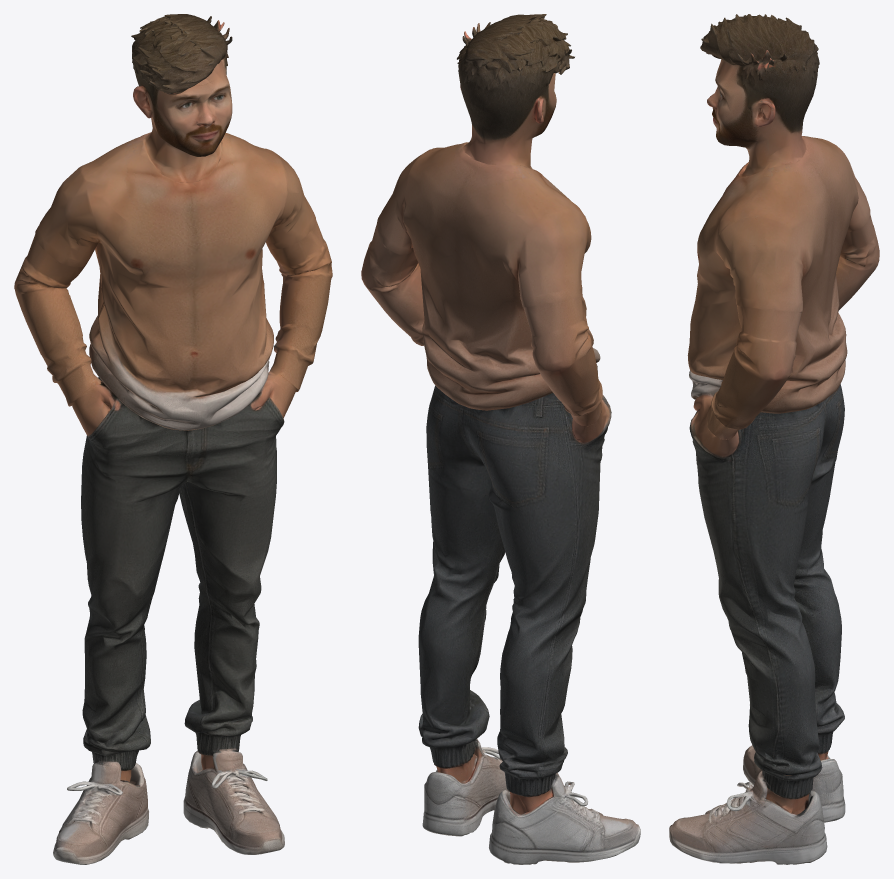
3 renders of one model, left to right at view 1: azimuth 30°, elevation 25°; view 2: azimuth 150°, elevation 25°; view 3: azimuth 270°, elevation 25°, orthographic. The views are drawn at different scales.
Size of the model in its own units: 0.7066 by 2 by 0.4688.
Materials: 1 (1 with a texture image).
